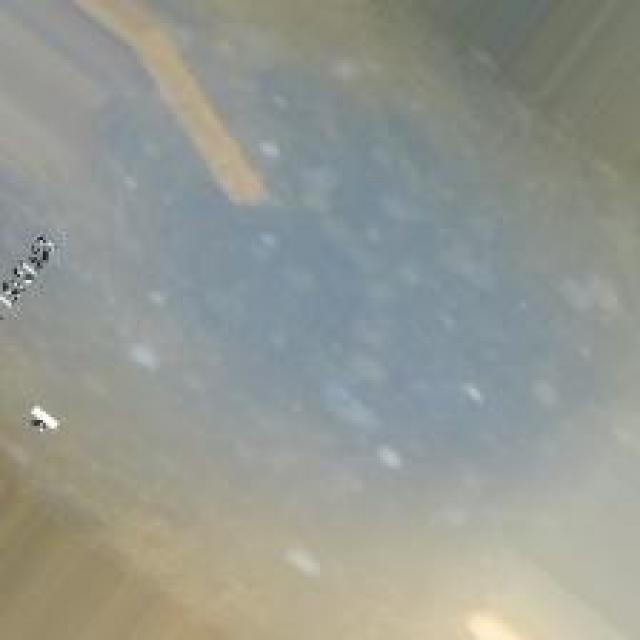ferrule: (83, 14, 280, 214)
